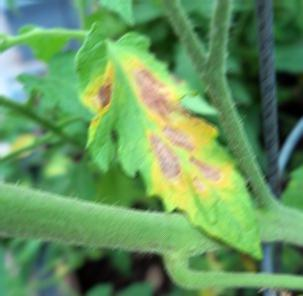Tomato Early blight leaf: (84, 17, 260, 258)
